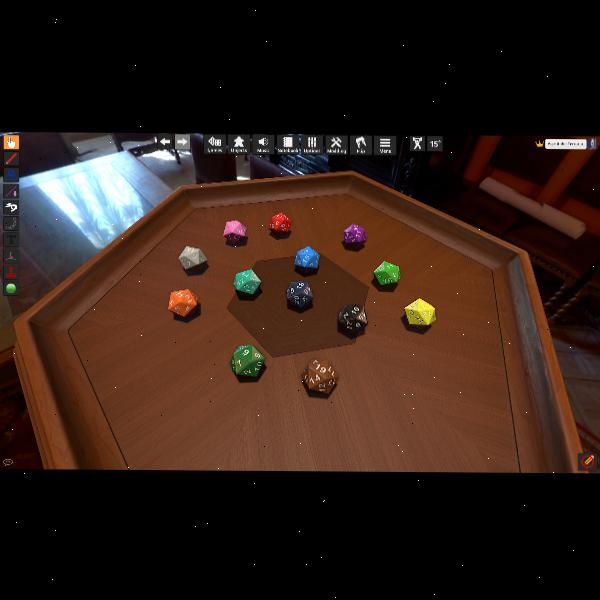d20: (301, 358, 338, 395), (230, 343, 266, 376), (404, 298, 436, 330), (168, 288, 198, 316), (338, 303, 366, 332), (294, 245, 320, 275), (373, 261, 402, 287), (234, 268, 260, 295), (179, 246, 207, 271), (286, 281, 312, 307), (342, 223, 366, 245), (223, 219, 245, 243), (269, 211, 291, 233), (301, 360, 314, 387)
